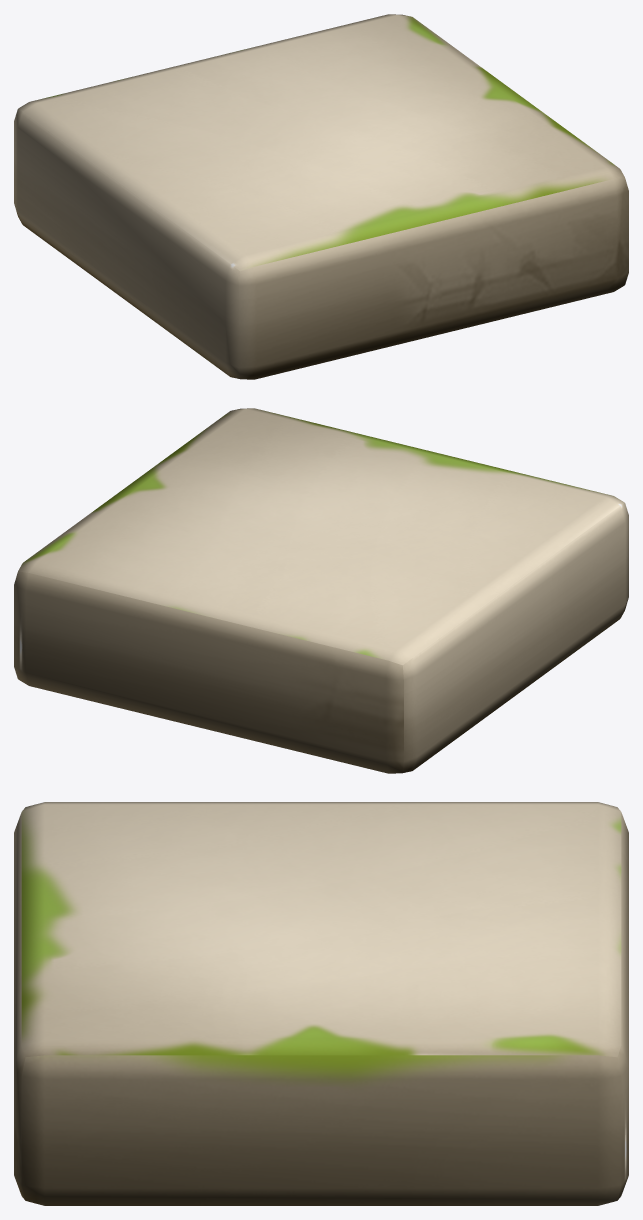
Rendered from 正方形.fbx.
The picture shows the model from 3 angles, top to bottom: view 1: azimuth 30°, elevation 25°; view 2: azimuth 150°, elevation 25°; view 3: azimuth 270°, elevation 25°; orthographic projection. The views are drawn at different scales.
Parts seen in each view (by area): view 1: 正方形; view 2: 正方形; view 3: 正方形.
Part boxes in pixels (x1,y1,x2,y2): 正方形: [14, 14, 628, 379]; 正方形: [14, 408, 628, 773]; 正方形: [14, 802, 628, 1205].
Bounding box in the file's own units: 100 × 29.51 × 100.
1 material, 1 textured.
